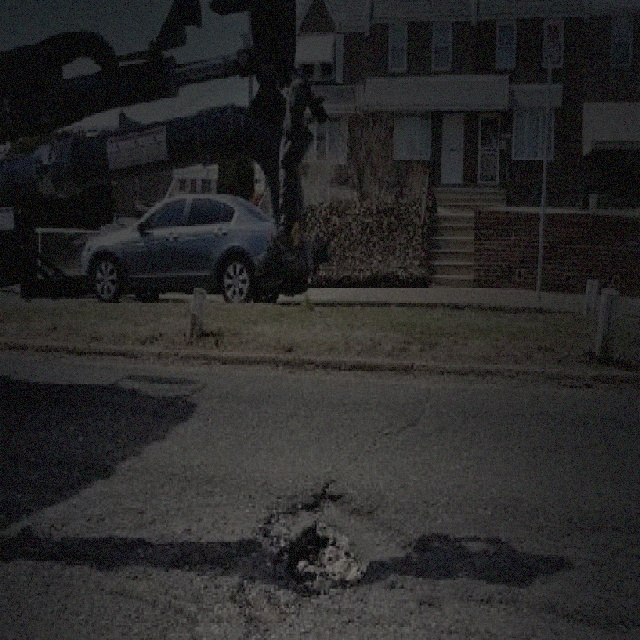pothole: (254, 482, 380, 602)
